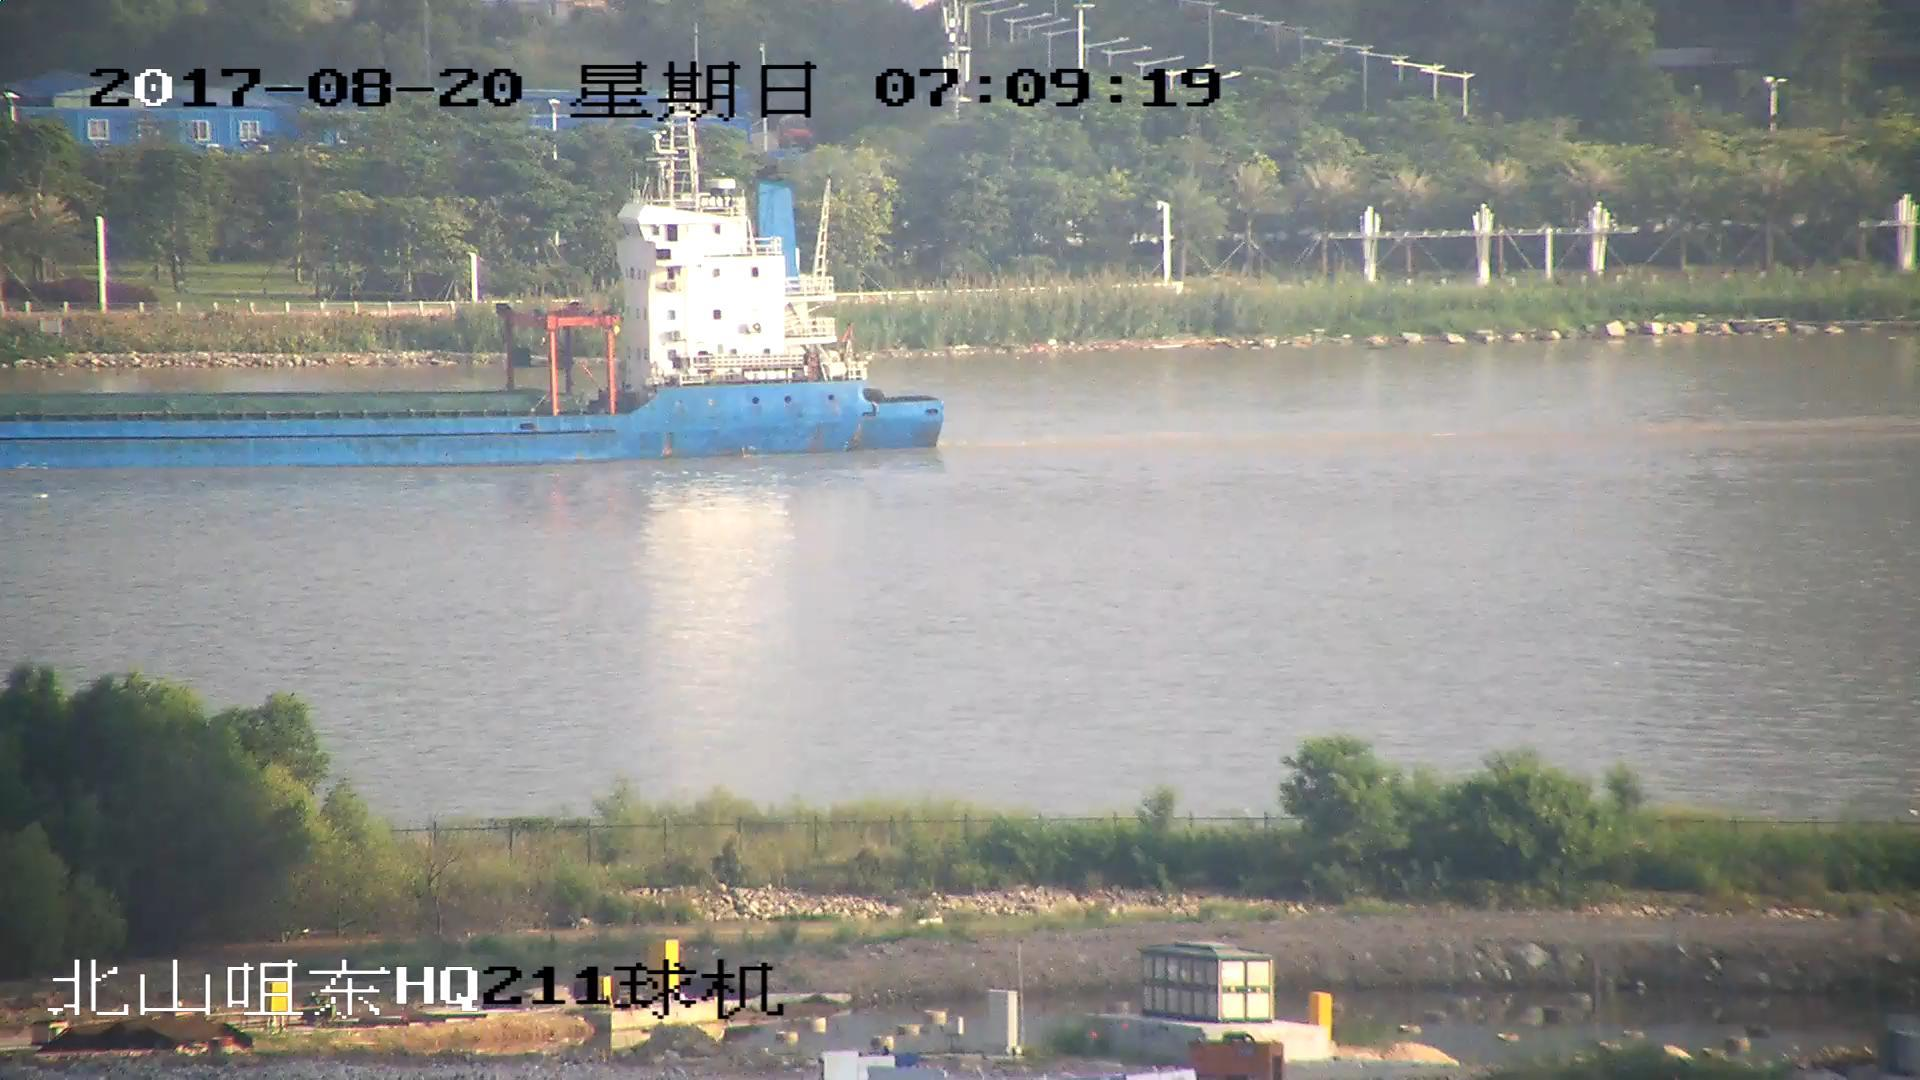Ship: (3, 142, 949, 465)
